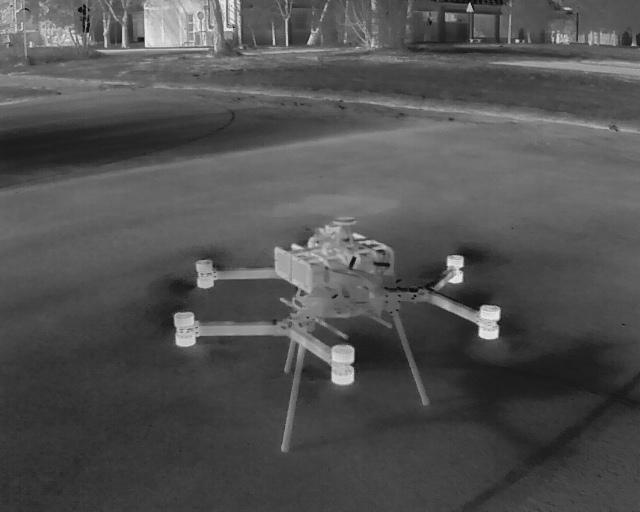drone: (143, 190, 526, 448)
